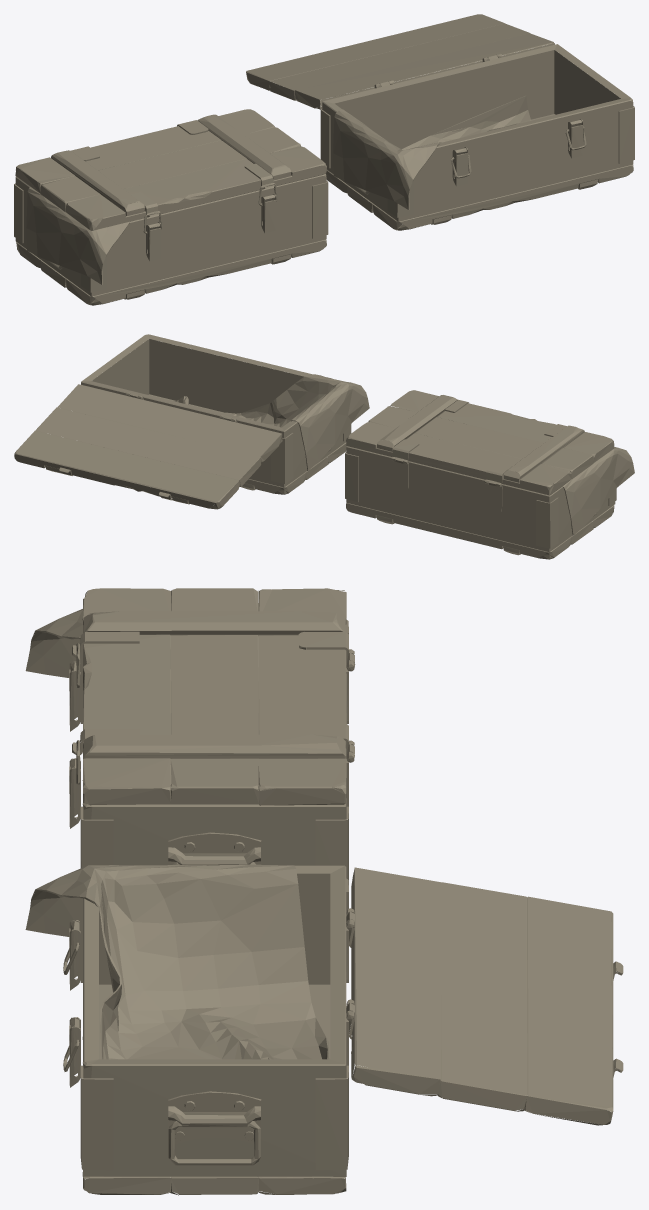
Rendered from crate_military.glb.
3 views of the same model, one above another, from view 1: azimuth 30°, elevation 25°; view 2: azimuth 150°, elevation 25°; view 3: azimuth 270°, elevation 25° (orthographic). The views are drawn at different scales.
Visible parts, largest first — view 1: crate_military; view 2: crate_military; view 3: crate_military.
Boxes of the visible parts, bbox=[...] form: crate_military: bbox=[14, 14, 634, 305]; crate_military: bbox=[14, 334, 634, 559]; crate_military: bbox=[25, 588, 623, 1195].
Bounding box in the file's own units: 1.82 × 0.3004 × 0.9756.
